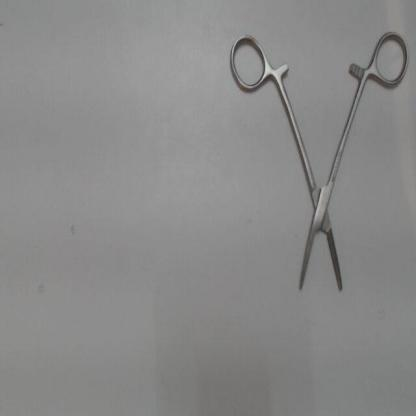Mayo Needle Holder: (223, 27, 415, 304)
